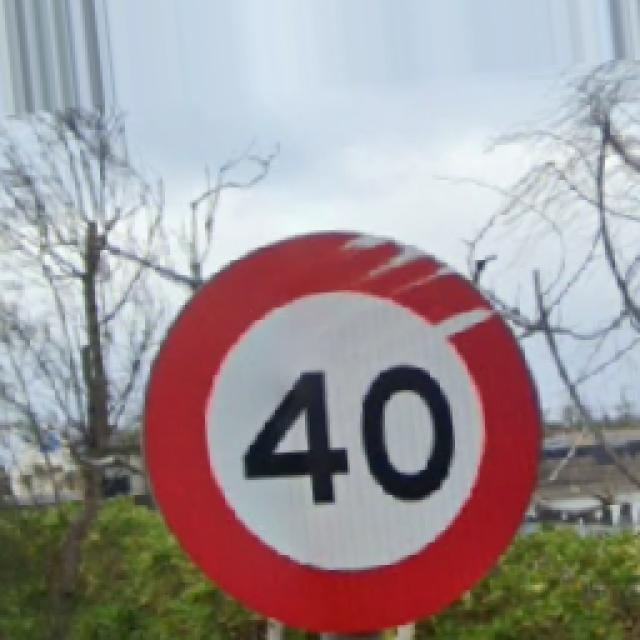Speed Limit -40-: (145, 232, 538, 630)
